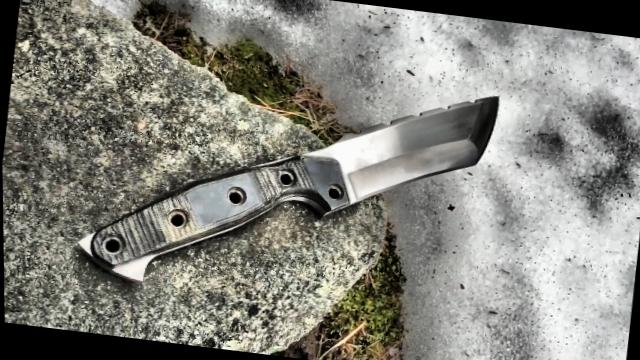knife: (276, 65, 515, 237)
